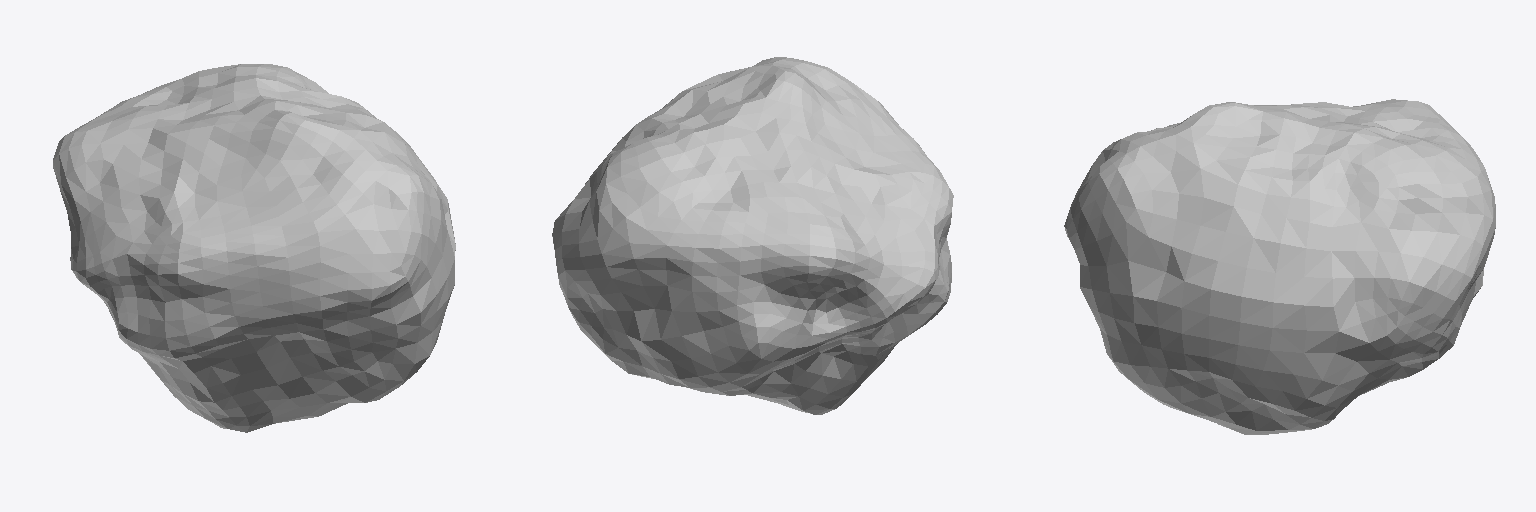
The model's file is asteroide6.obj.
3 renders of one model, left to right at view 1: azimuth 30°, elevation 25°; view 2: azimuth 150°, elevation 25°; view 3: azimuth 270°, elevation 25°, orthographic.
Visible parts, largest first — view 1: Asteroid_no_6; view 2: Asteroid_no_6; view 3: Asteroid_no_6.
Boxes of the visible parts, x1,y1,x2,y2 form: Asteroid_no_6: [53, 64, 455, 432]; Asteroid_no_6: [552, 57, 953, 414]; Asteroid_no_6: [1064, 99, 1495, 434].
Size of the model in its own units: 7.21 by 6.38 by 7.98.